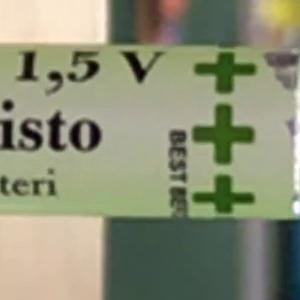1,5V: (6, 41, 172, 92)
